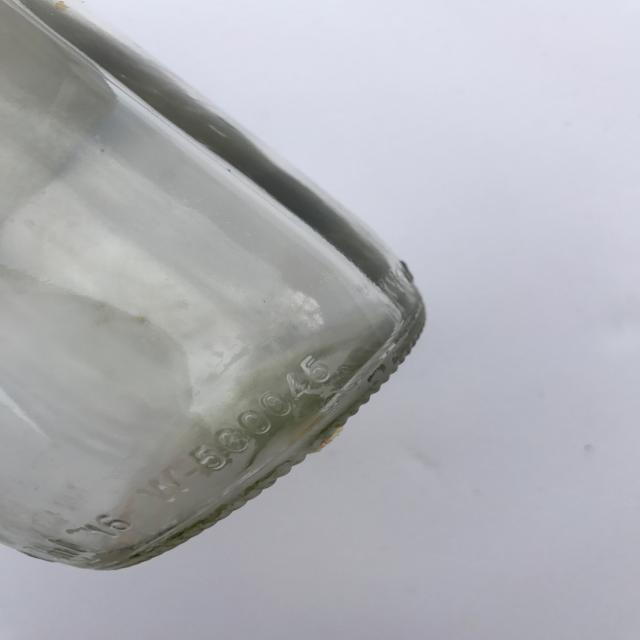glass: (1, 0, 427, 572)
